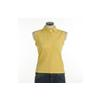canottiera: (36, 28, 65, 73)
